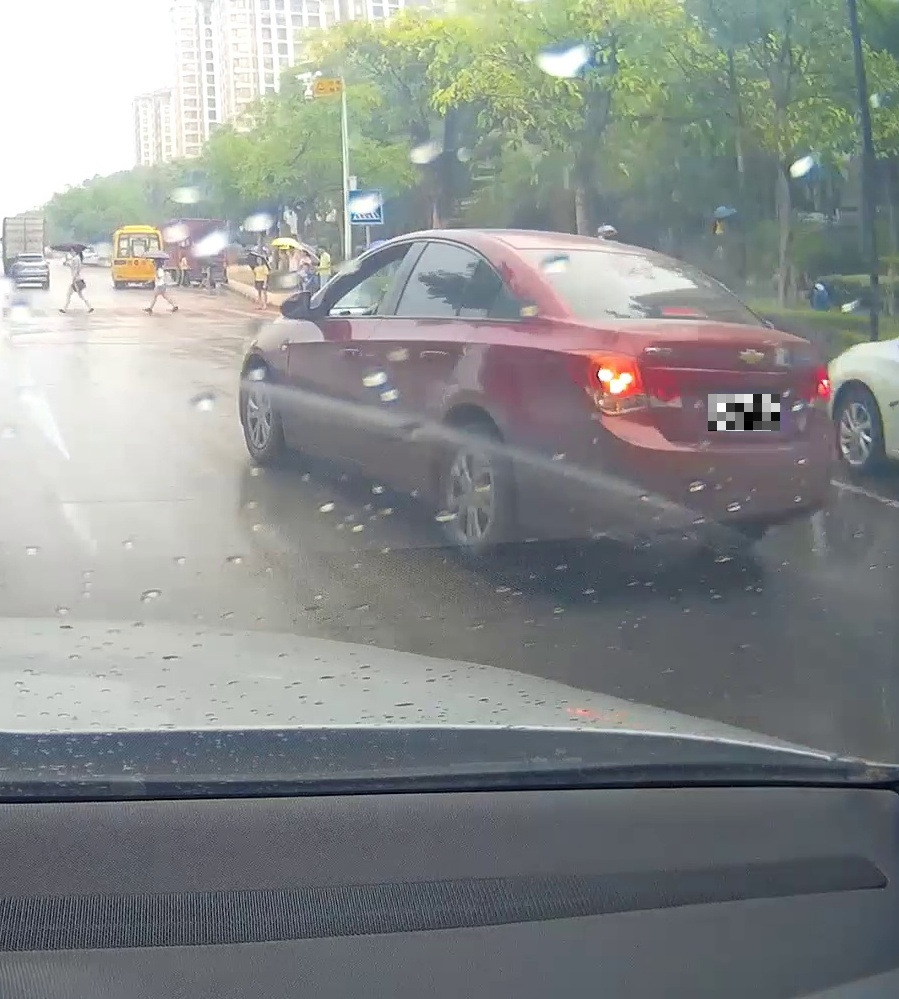L_light: (558, 349, 684, 417)
R_light: (796, 360, 831, 410)
T_light: (656, 305, 710, 320)
day-left: (503, 232, 836, 570)
plate_1: (708, 394, 780, 431)
